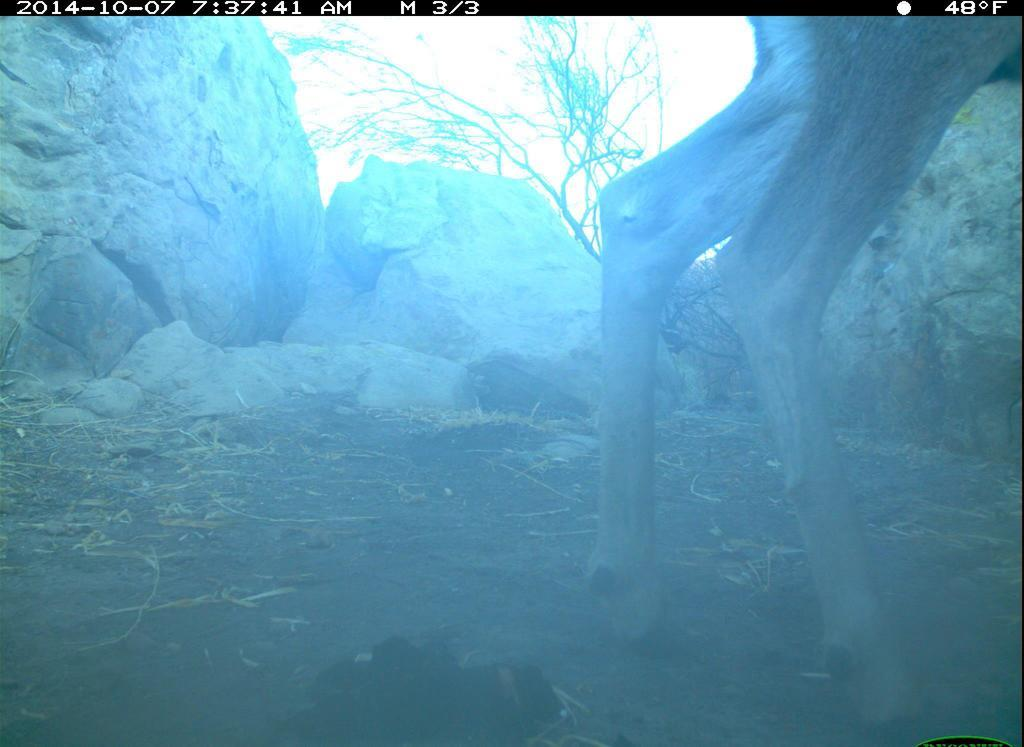deer: (534, 65, 1003, 693)
